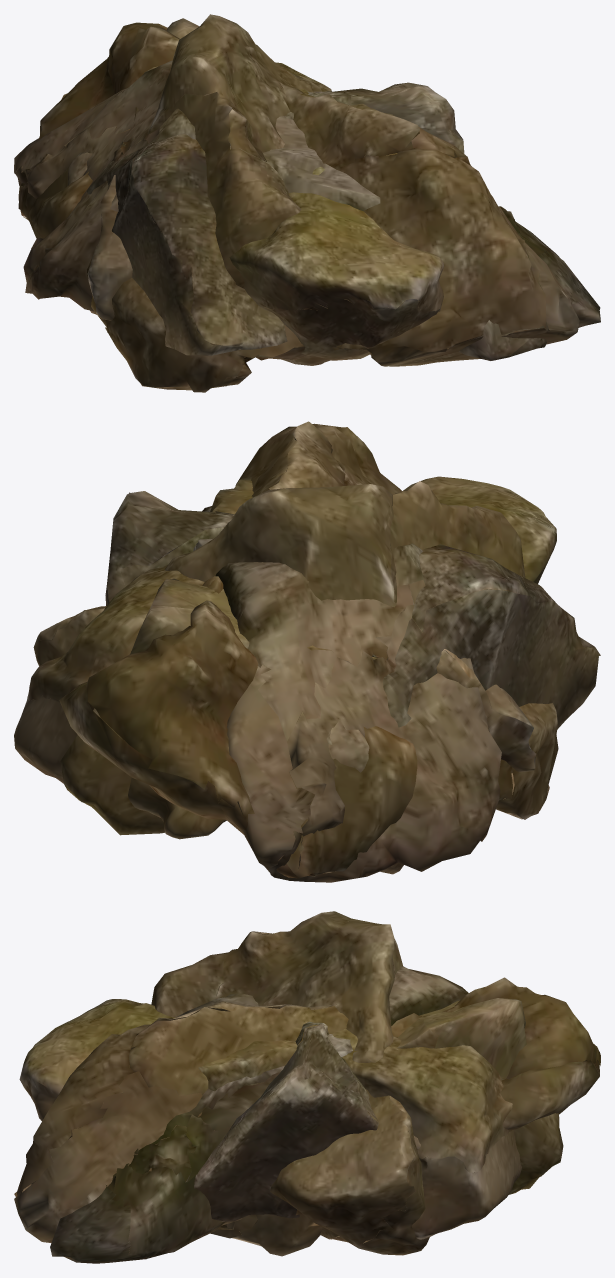
File: rocks.glb
3 renders of one model, top to bottom at view 1: azimuth 30°, elevation 25°; view 2: azimuth 150°, elevation 25°; view 3: azimuth 270°, elevation 25°, orthographic. The views are drawn at different scales.
Visible parts, largest first — view 1: rock_moss_set_01_rock01, rock_moss_set_01_rock03, rock_moss_set_01_rock02, rock_moss_set_01_rock05, rock_moss_set_01_rock04, rock_moss_set_01_rock06; view 2: rock_moss_set_01_rock02, rock_moss_set_01_rock01, rock_moss_set_01_rock03, rock_moss_set_01_rock04, rock_moss_set_01_rock05, rock_moss_set_01_rock06; view 3: rock_moss_set_01_rock01, rock_moss_set_01_rock04, rock_moss_set_01_rock05, rock_moss_set_01_rock02, rock_moss_set_01_rock03, rock_moss_set_01_rock06.
Part boxes in pixels (x1=…): rock_moss_set_01_rock01: x1=18, y1=22, x2=579, y2=392; rock_moss_set_01_rock03: x1=87, y1=82, x2=464, y2=355; rock_moss_set_01_rock02: x1=14, y1=60, x2=600, y2=360; rock_moss_set_01_rock05: x1=67, y1=62, x2=443, y2=365; rock_moss_set_01_rock04: x1=90, y1=14, x2=321, y2=314; rock_moss_set_01_rock06: x1=87, y1=18, x2=397, y2=352; rock_moss_set_01_rock02: x1=178, y1=506, x2=501, y2=882; rock_moss_set_01_rock01: x1=59, y1=421, x2=558, y2=878; rock_moss_set_01_rock03: x1=105, y1=491, x2=600, y2=729; rock_moss_set_01_rock04: x1=33, y1=481, x2=525, y2=874; rock_moss_set_01_rock05: x1=14, y1=476, x2=556, y2=839; rock_moss_set_01_rock06: x1=60, y1=471, x2=536, y2=835; rock_moss_set_01_rock01: x1=14, y1=977, x2=600, y2=1256; rock_moss_set_01_rock04: x1=151, y1=911, x2=429, y2=1255; rock_moss_set_01_rock05: x1=19, y1=999, x2=521, y2=1240; rock_moss_set_01_rock02: x1=31, y1=966, x2=468, y2=1263; rock_moss_set_01_rock03: x1=185, y1=990, x2=425, y2=1221; rock_moss_set_01_rock06: x1=129, y1=998, x2=563, y2=1194.
Size of the model in its own units: 2.65 by 1.77 by 3.38.
1 material, 1 textured.
